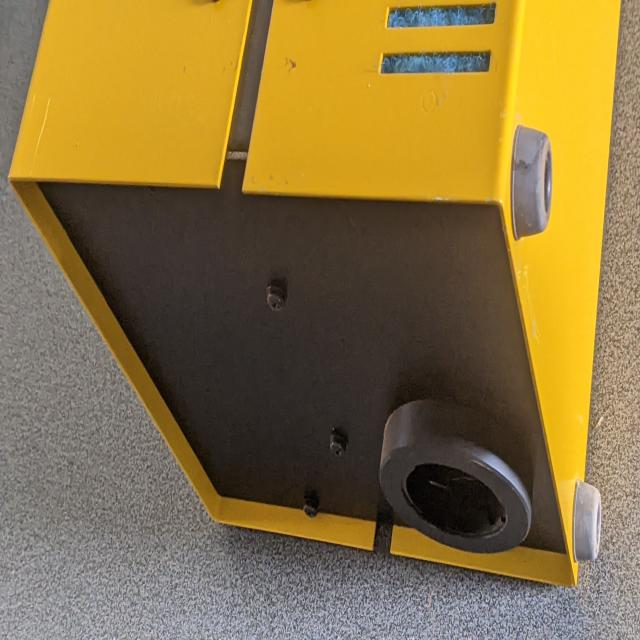Vacuum Pump: (4, 0, 609, 594)
